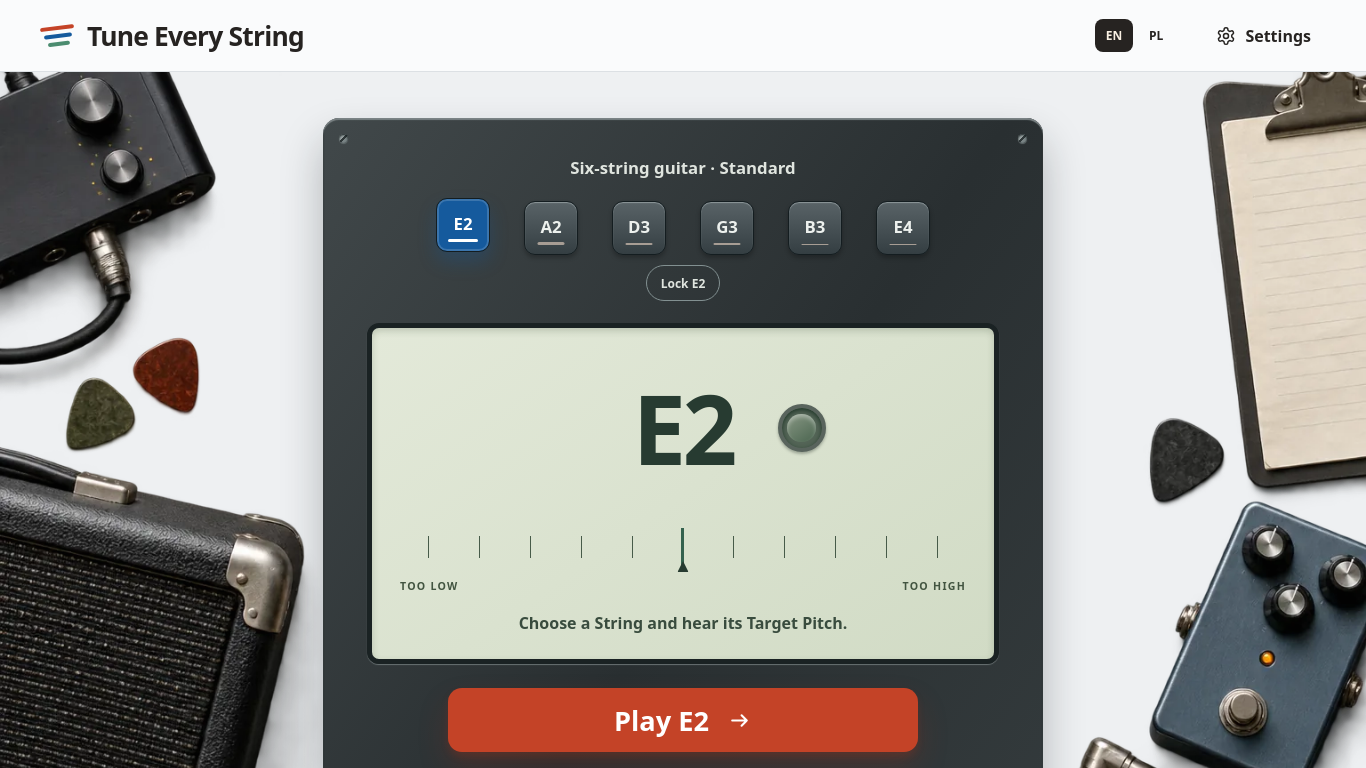
Test: application routes › plays the selected String until the player stops the Tuning Session
This screenshot has width=1366, height=768.
Click the button "Play E2": (683, 720) [448,688,918,752]
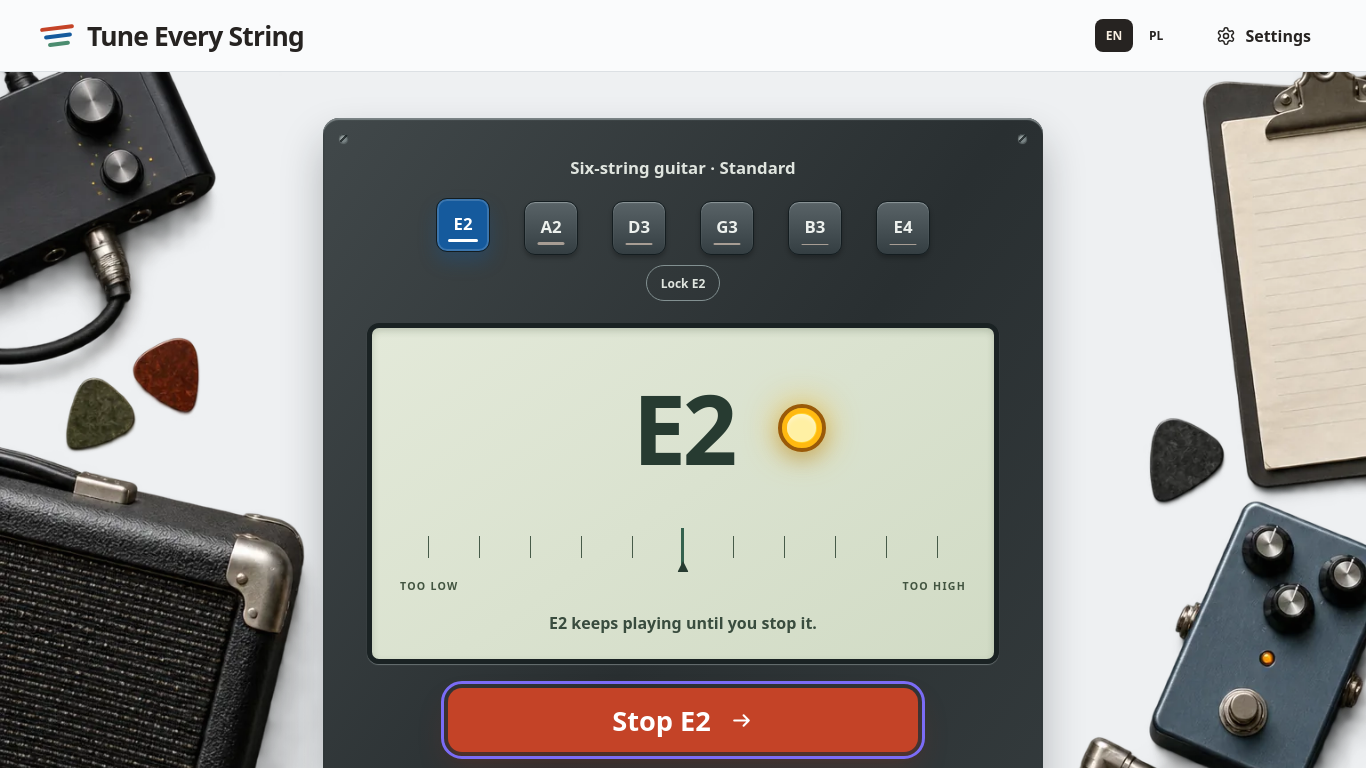
Click the button "A2": (551, 228) [524,201,578,255]
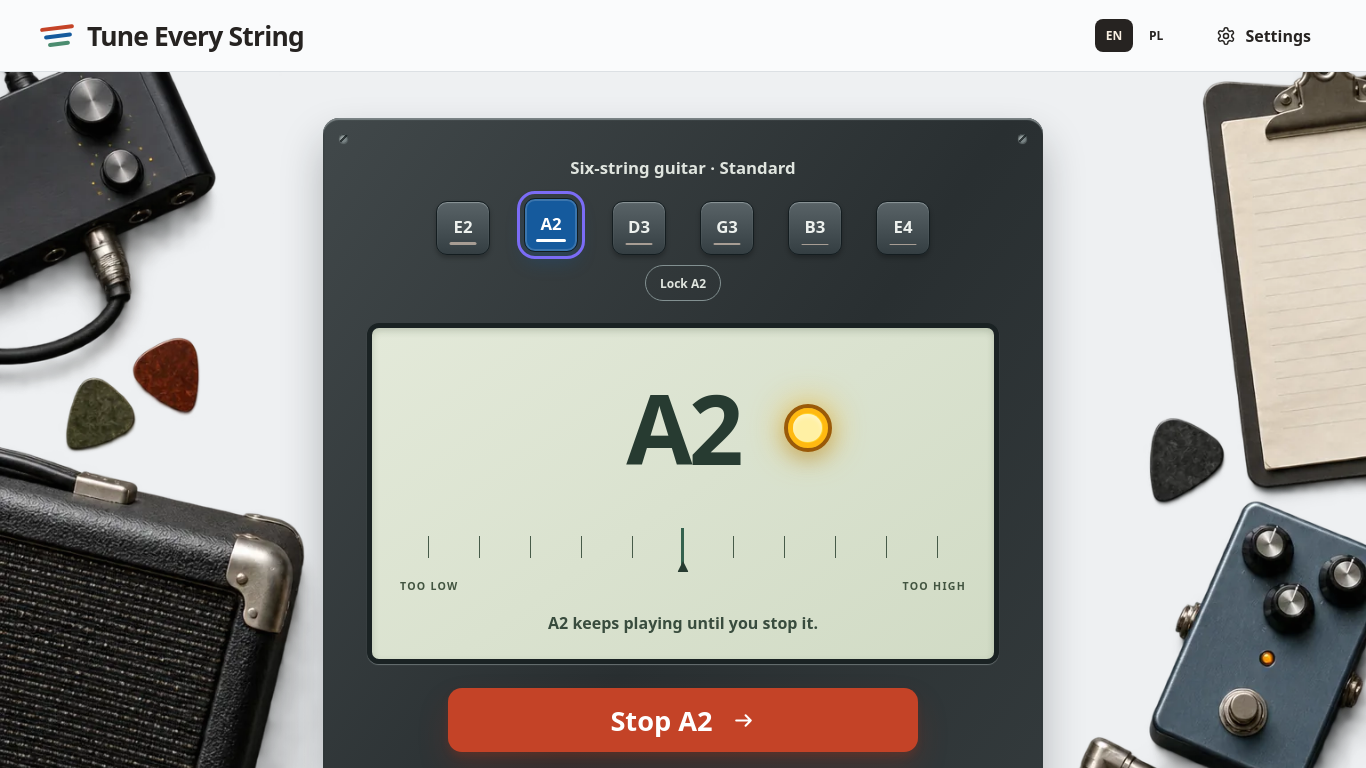
Click the button "Stop A2": (683, 720) [448,688,918,752]
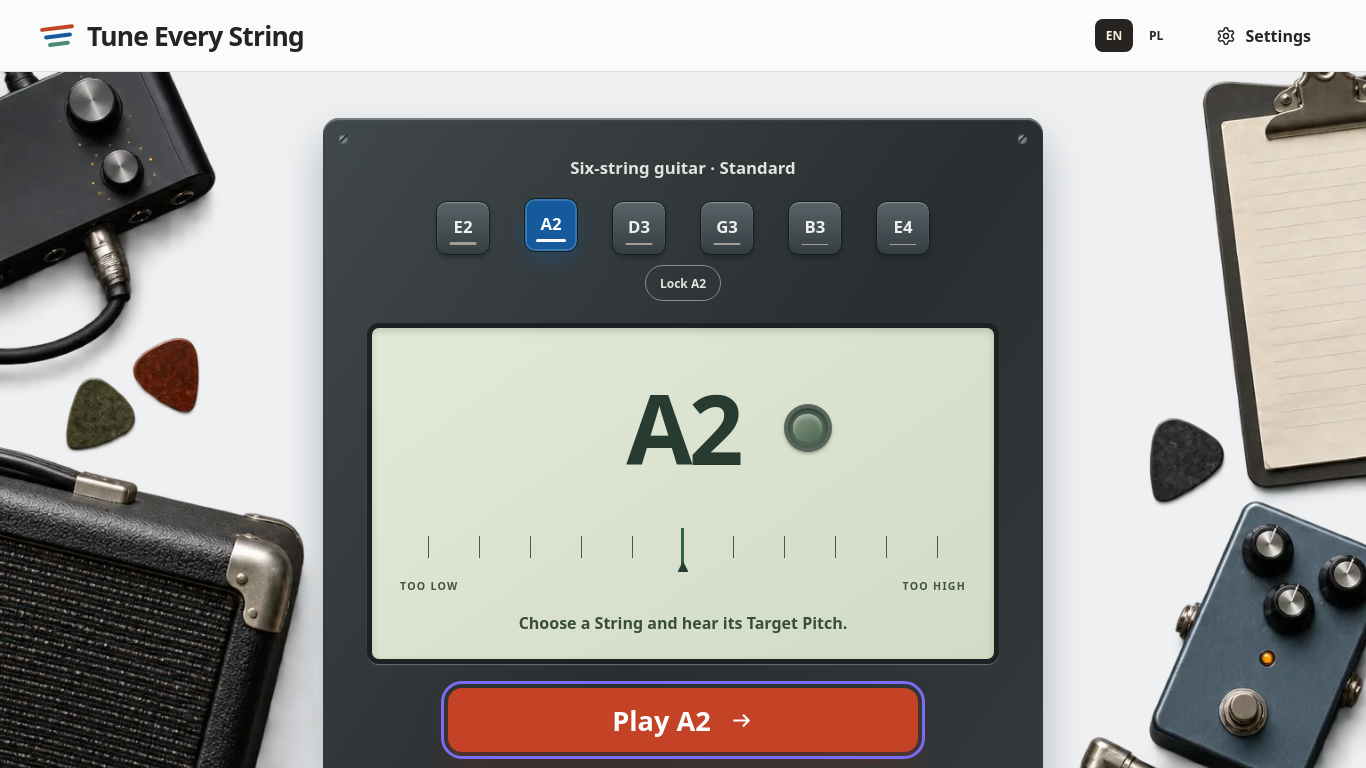
Expected: the button "Play A2" is shown, [448,688,918,752]
